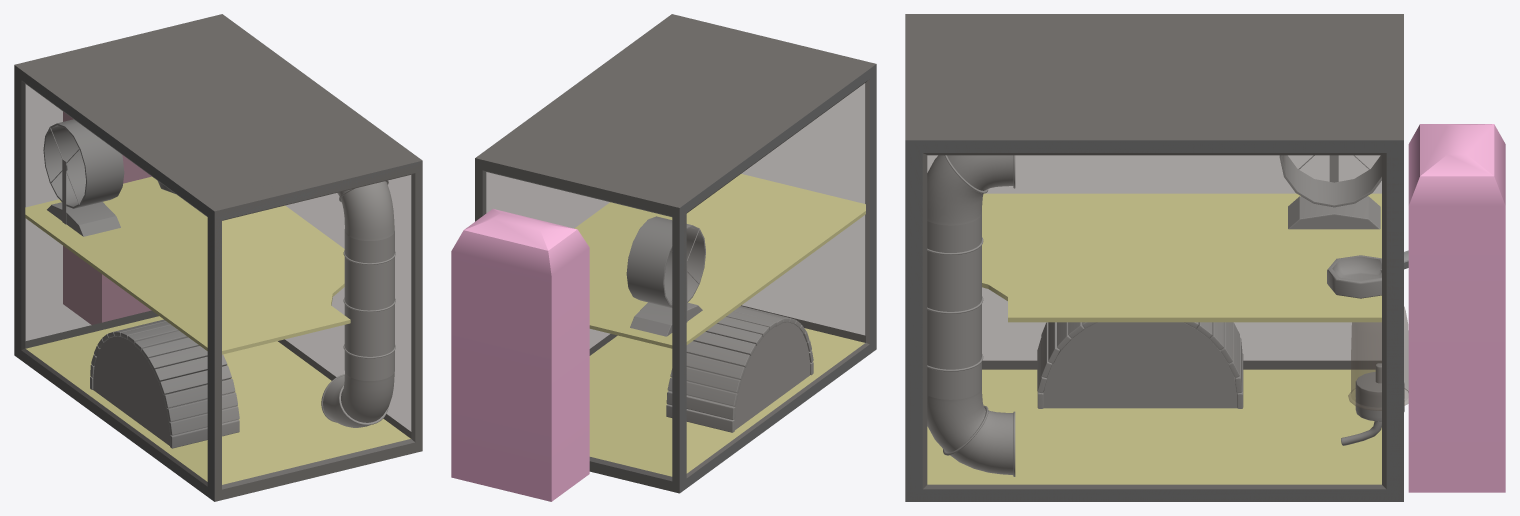
File: CagePlaceholderV2.fbx
3 renders of one model, left to right at view 1: azimuth 30°, elevation 25°; view 2: azimuth 150°, elevation 25°; view 3: azimuth 270°, elevation 25°, orthographic. The views are drawn at different scales.
Parts seen in each view (by area): view 1: Glass, Frame, Floor1, Floor0, Tube, Wheel_LP1, pCylinder4, FeedingMachineBack, Wheel_Base_LP1, pCube10, pCube12, pCube11 (+6 smaller); view 2: Glass, Frame, FeedingMachineBack, Floor1, Floor0, Wheel_LP1, pCylinder4, Wheel_Base_LP1, pCube21, pCube22, pCube24, pCube23 (+4 smaller); view 3: Glass, Frame, Floor1, Floor0, FeedingMachineBack, Tube, pCylinder4, DrinkingTube, Wheel_Base_LP1, Wheel_LP1, Foodbowl.
Boxes of the visible parts, box(x1,y1,x2,y2) form: Glass: box(14, 14, 422, 501); Frame: box(14, 14, 422, 501); Floor1: box(25, 176, 350, 354); Floor0: box(26, 316, 410, 484); Tube: box(321, 180, 395, 427); Wheel_LP1: box(43, 119, 124, 208); pCylinder4: box(93, 336, 227, 445); FeedingMachineBack: box(63, 111, 151, 324); Wheel_Base_LP1: box(47, 159, 120, 236); pCube10: box(166, 392, 237, 421); pCube12: box(159, 365, 231, 394); pCube11: box(163, 378, 235, 408); Glass: box(475, 14, 875, 492); Frame: box(475, 14, 876, 493); FeedingMachineBack: box(451, 209, 589, 501); Floor1: box(574, 174, 865, 348); Floor0: box(589, 328, 864, 476); Wheel_LP1: box(626, 216, 705, 307); pCylinder4: box(687, 322, 810, 430); Wheel_Base_LP1: box(630, 261, 702, 336); pCube21: box(686, 341, 750, 367); pCube22: box(686, 353, 745, 380); pCube24: box(667, 377, 738, 406); pCube23: box(670, 367, 741, 393); Glass: box(905, 14, 1403, 501); Frame: box(905, 14, 1403, 501); Floor1: box(982, 193, 1381, 322); Floor0: box(927, 369, 1381, 484); FeedingMachineBack: box(1408, 124, 1505, 492); Tube: box(927, 155, 1015, 476); pCylinder4: box(1043, 322, 1237, 408); DrinkingTube: box(1341, 306, 1408, 445); Wheel_Base_LP1: box(1288, 155, 1380, 229); Wheel_LP1: box(1279, 155, 1381, 207); Foodbowl: box(1327, 255, 1381, 298).
Size of the model in its own units: 300 by 401 by 602.
